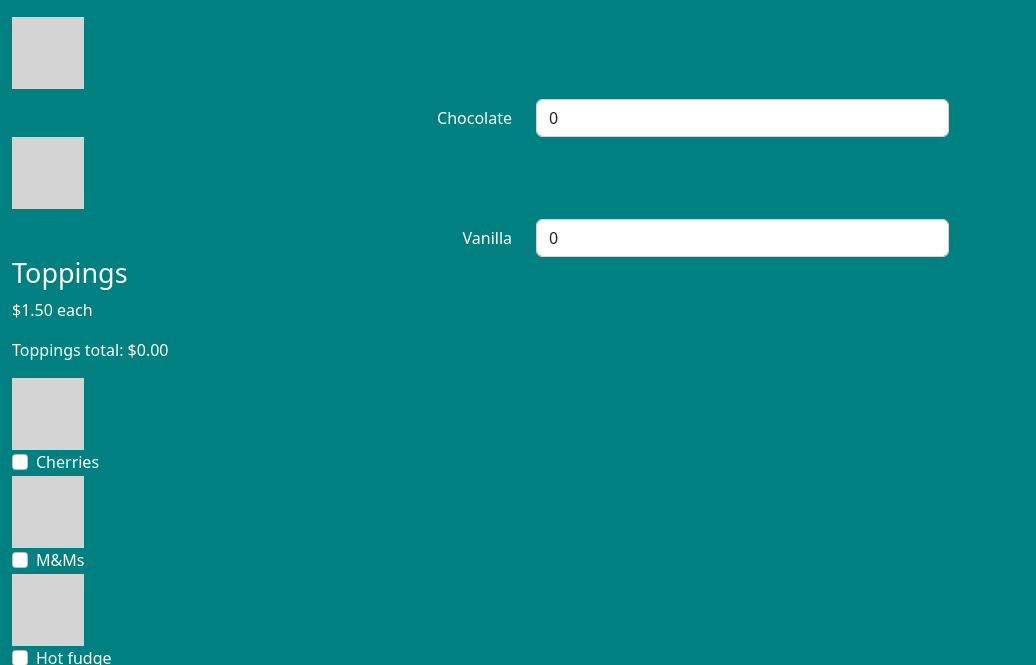
Scenario: grand total › grand total updates properly if scoop is added first
Replace the text in the number field labelled "Vanilla" with "2" at (742, 238), box [536,219,949,257]
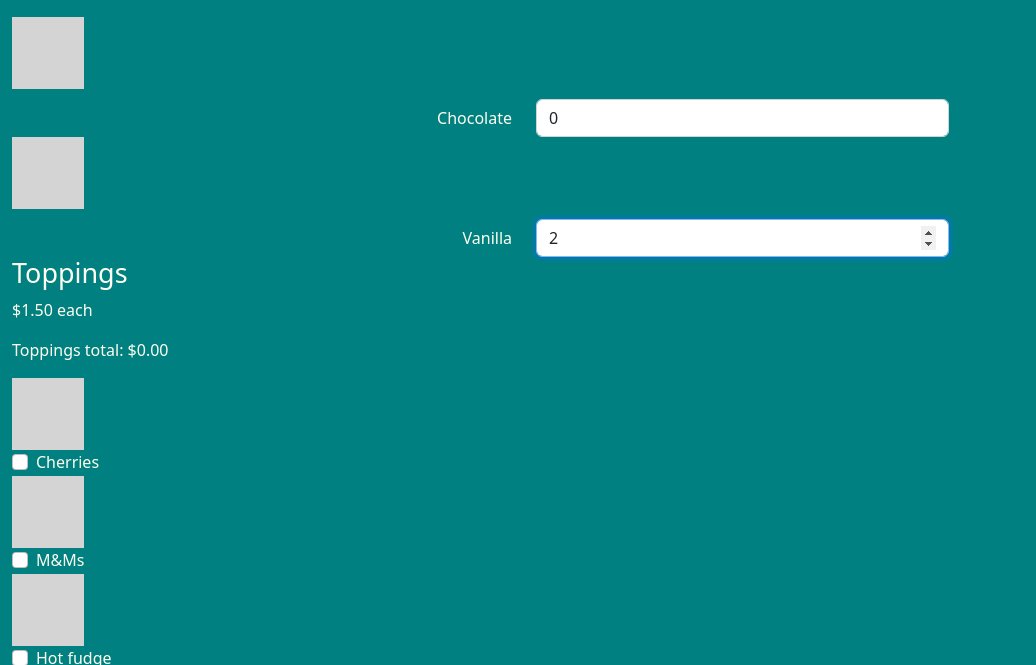
Click the checkbox labelled "Cherries" at (20, 462), box [12,454,28,470]
(page scrolled)
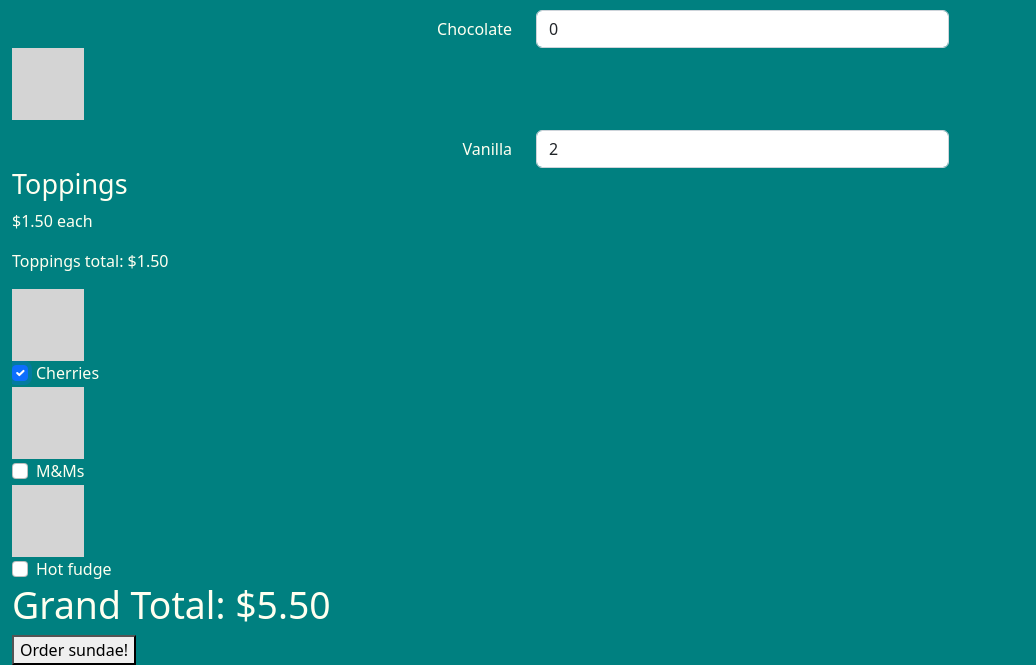
Result: the heading "Grand Total: $5.50" is shown at [12,579,331,630]
